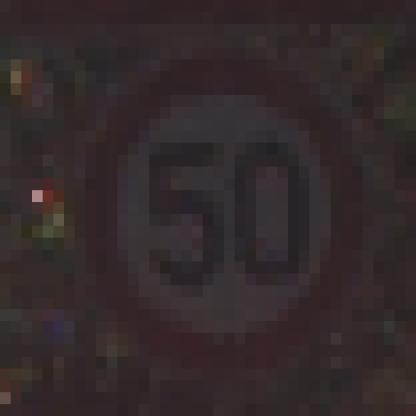Speed Limit 50: (91, 55, 356, 363)
